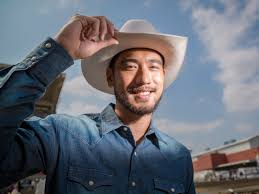asian_male: (88, 13, 176, 126)
